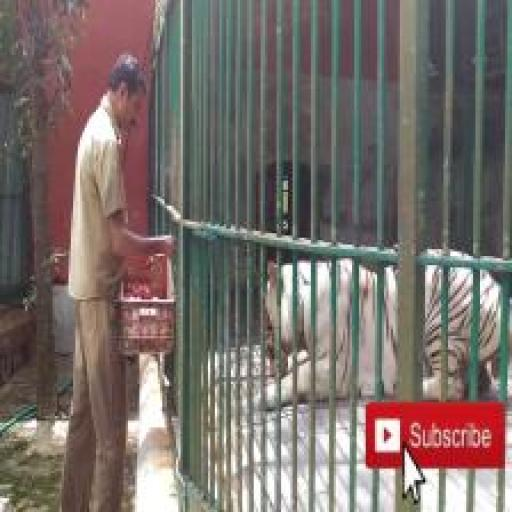Tiger: (233, 194, 512, 482)
